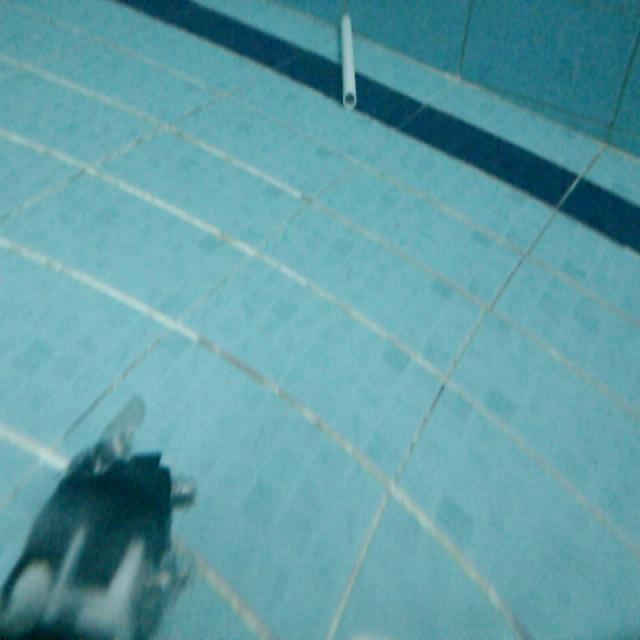Cube: (337, 9, 359, 111)
